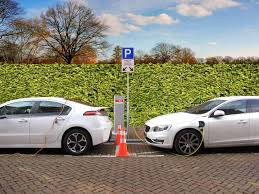car: (145, 93, 259, 156), (1, 98, 113, 154)
cone: (115, 128, 129, 157), (114, 123, 122, 145)
